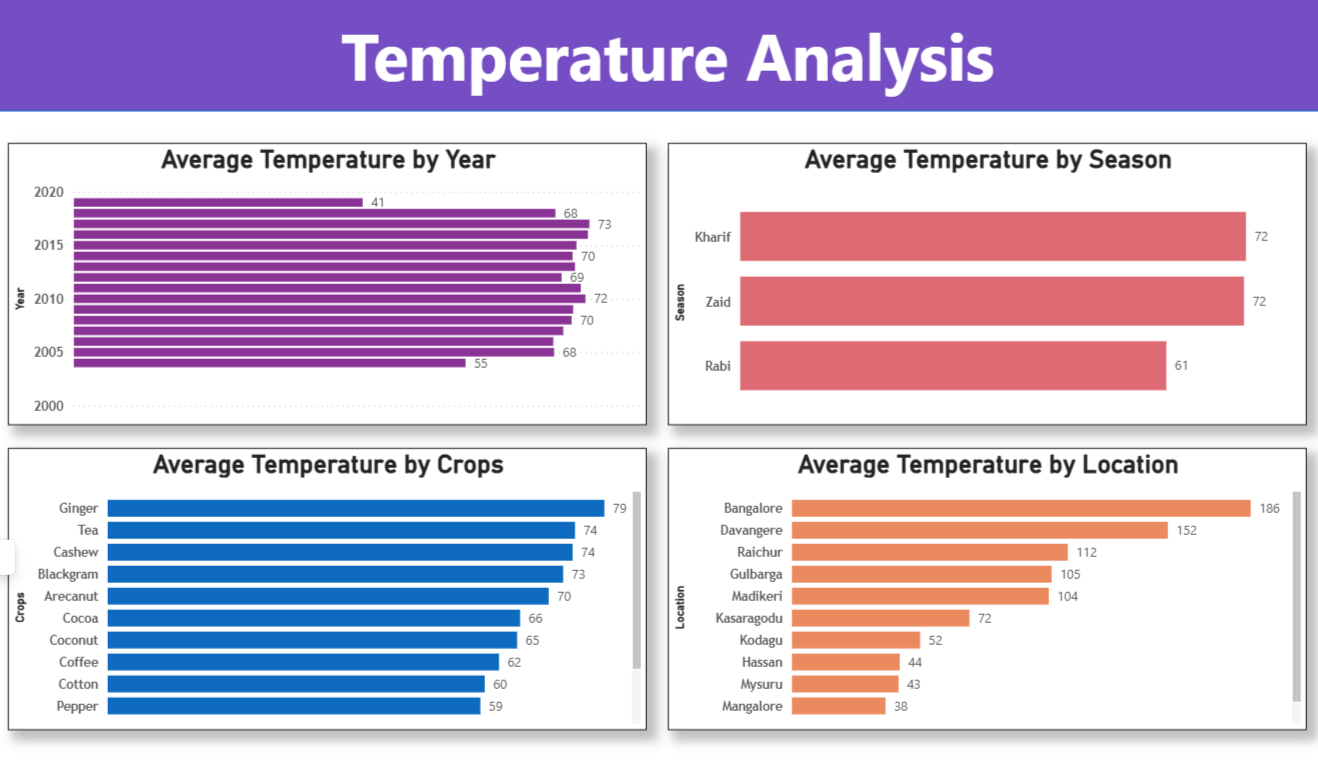

What the dashboard file says about the page in this screenshot:
{"tool":"powerbi","page":{"name":"Temperature Analysis","canvas":[1280,720],"ordinal":1},"visuals":[{"type":"shape","box":[9.6,0,1270.7,108.4],"z":0},{"type":"barChart","fields":{"Y":["Avg(AGRICULTURE.TEMPERATURE)"],"Category":["AGRICULTURE.YEAR"]},"box":[20.6,138.6,605.1,267.6],"z":1000},{"type":"barChart","fields":{"Category":["AGRICULTURE.SEASON"],"Y":["Avg(AGRICULTURE.TEMPERATURE)"]},"box":[644.9,138.6,605.1,267.6],"z":2000},{"type":"barChart","fields":{"Category":["AGRICULTURE.CROPS"],"Y":["Avg(AGRICULTURE.TEMPERATURE)"]},"box":[20.6,426.8,605.1,267.6],"z":3000},{"type":"barChart","fields":{"Category":["AGRICULTURE.LOCATION"],"Y":["Avg(AGRICULTURE.TEMPERATURE)"]},"box":[644.9,426.8,605.1,267.6],"z":4000}]}

Visuals, with their boxes on the page's 1280x720 design canvas (x1, y1, x2, y2). These are canvas units, not pixel positions in the 1318x767 screenshot, which may show the page scaled, cropped or inside an application window:
shape: (x1=10, y1=0, x2=1280, y2=108)
barChart - Avg(AGRICULTURE.TEMPERATURE) x AGRICULTURE.YEAR: (x1=21, y1=139, x2=626, y2=406)
barChart - AGRICULTURE.SEASON x Avg(AGRICULTURE.TEMPERATURE): (x1=645, y1=139, x2=1250, y2=406)
barChart - AGRICULTURE.CROPS x Avg(AGRICULTURE.TEMPERATURE): (x1=21, y1=427, x2=626, y2=694)
barChart - AGRICULTURE.LOCATION x Avg(AGRICULTURE.TEMPERATURE): (x1=645, y1=427, x2=1250, y2=694)
